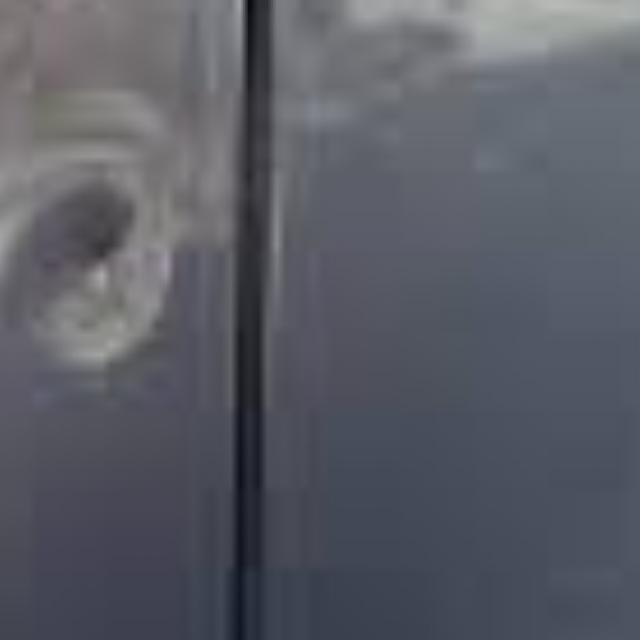dents: (7, 162, 225, 381)
